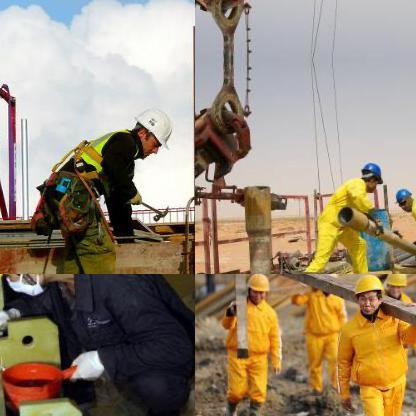Helmet: (117, 93, 174, 159), (351, 274, 386, 317), (245, 274, 272, 303), (358, 159, 382, 191), (384, 274, 409, 296), (392, 184, 412, 209)
